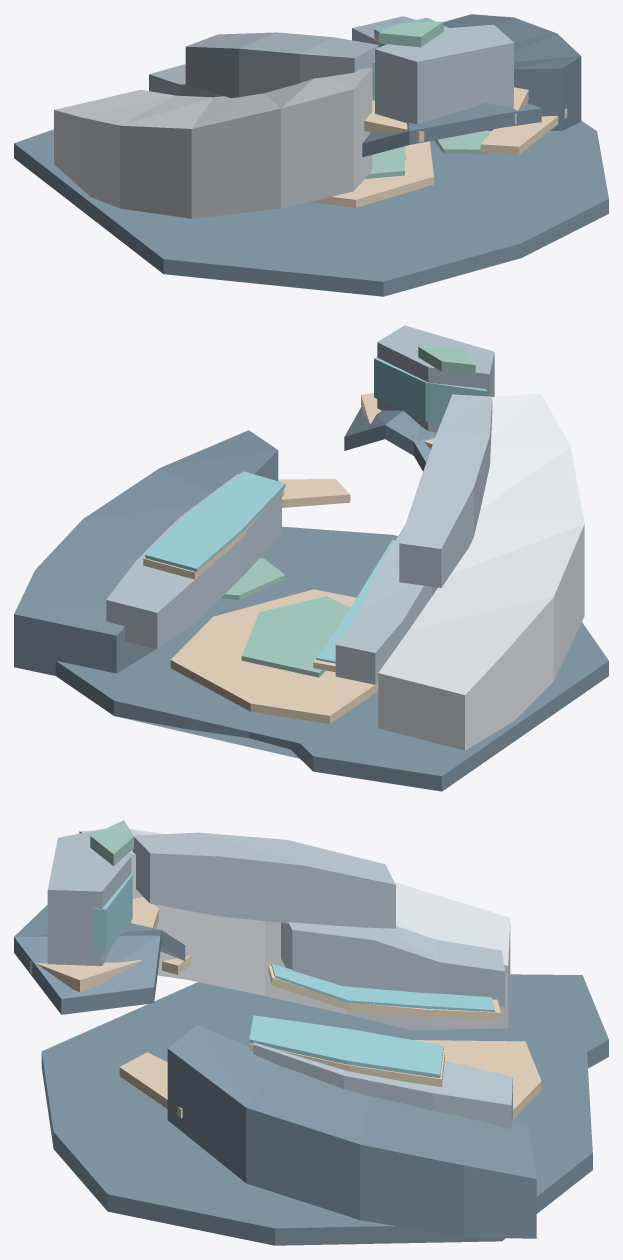
Rendered from a33_open_city_section.glb.
The picture shows the model from 3 angles, top to bottom: view 1: azimuth 30°, elevation 25°; view 2: azimuth 150°, elevation 25°; view 3: azimuth 270°, elevation 25°; orthographic projection. The views are drawn at different scales.
Visible parts, largest first — view 1: A33 Open City Section G1; view 2: A33 Open City Section G1; view 3: A33 Open City Section G1.
Boxes of the visible parts, x1,y1,x2,y2 form: A33 Open City Section G1: [14, 14, 608, 296]; A33 Open City Section G1: [14, 325, 608, 791]; A33 Open City Section G1: [14, 820, 608, 1245].
Bounding box in the file's own units: 415 × 200 × 406.
